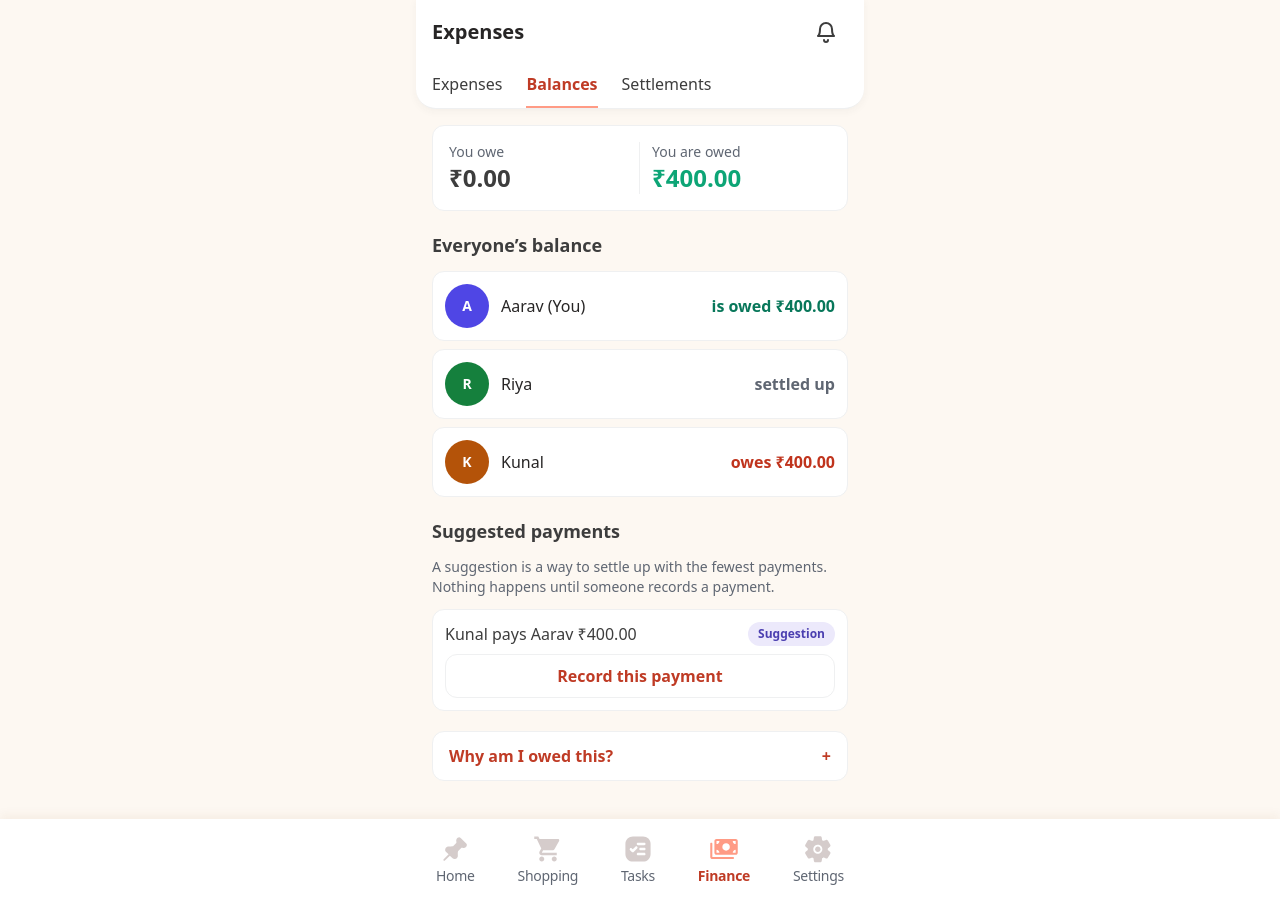
balances › “Why am I owed this?” lists every line and they add up exactly to the balance
Click the button "Why am I owed this? +": {"x": 531, "y": 756} [433,732,847,780]
(page scrolled)
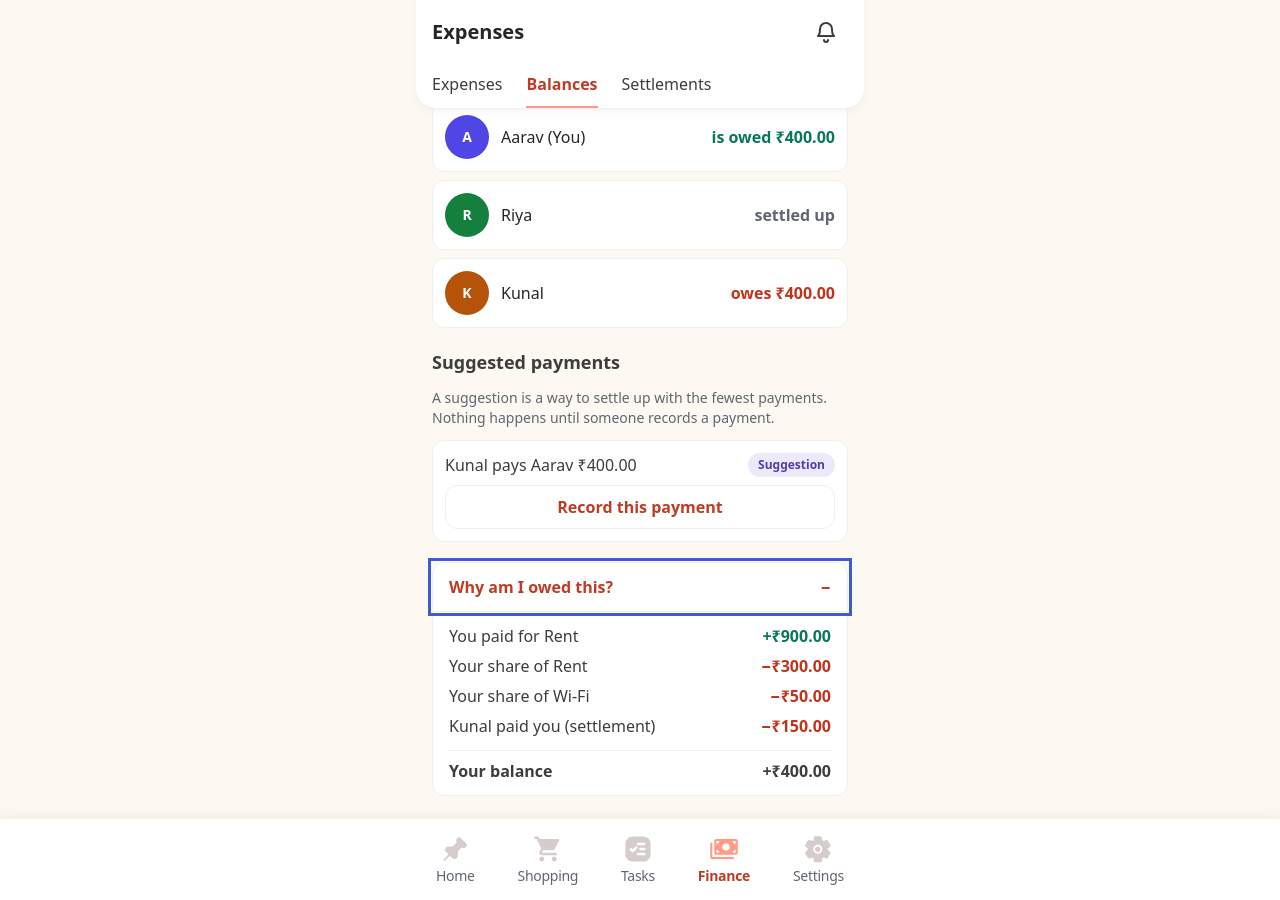
Expected: the button "Why am I owed this? −" is expanded, [433,563,847,611]
Expected: the text "+₹900.00" is shown, [762,624,831,648]
Expected: the text "−₹300.00" is shown, [761,654,831,678]
